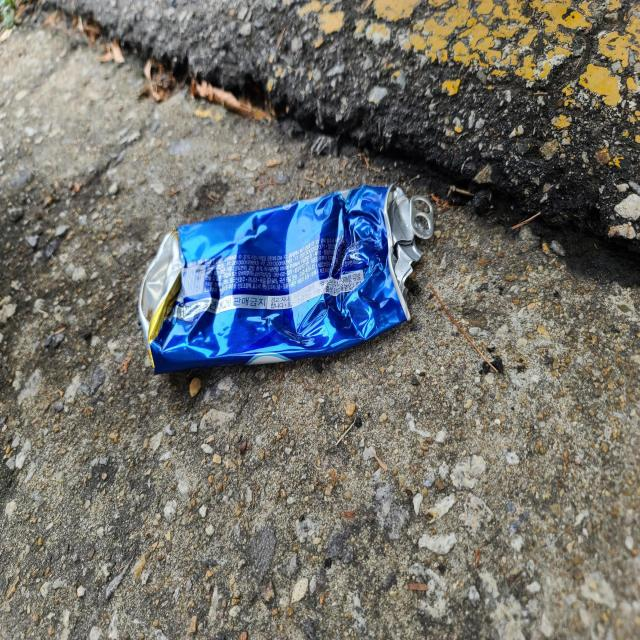can: (138, 185, 434, 374)
